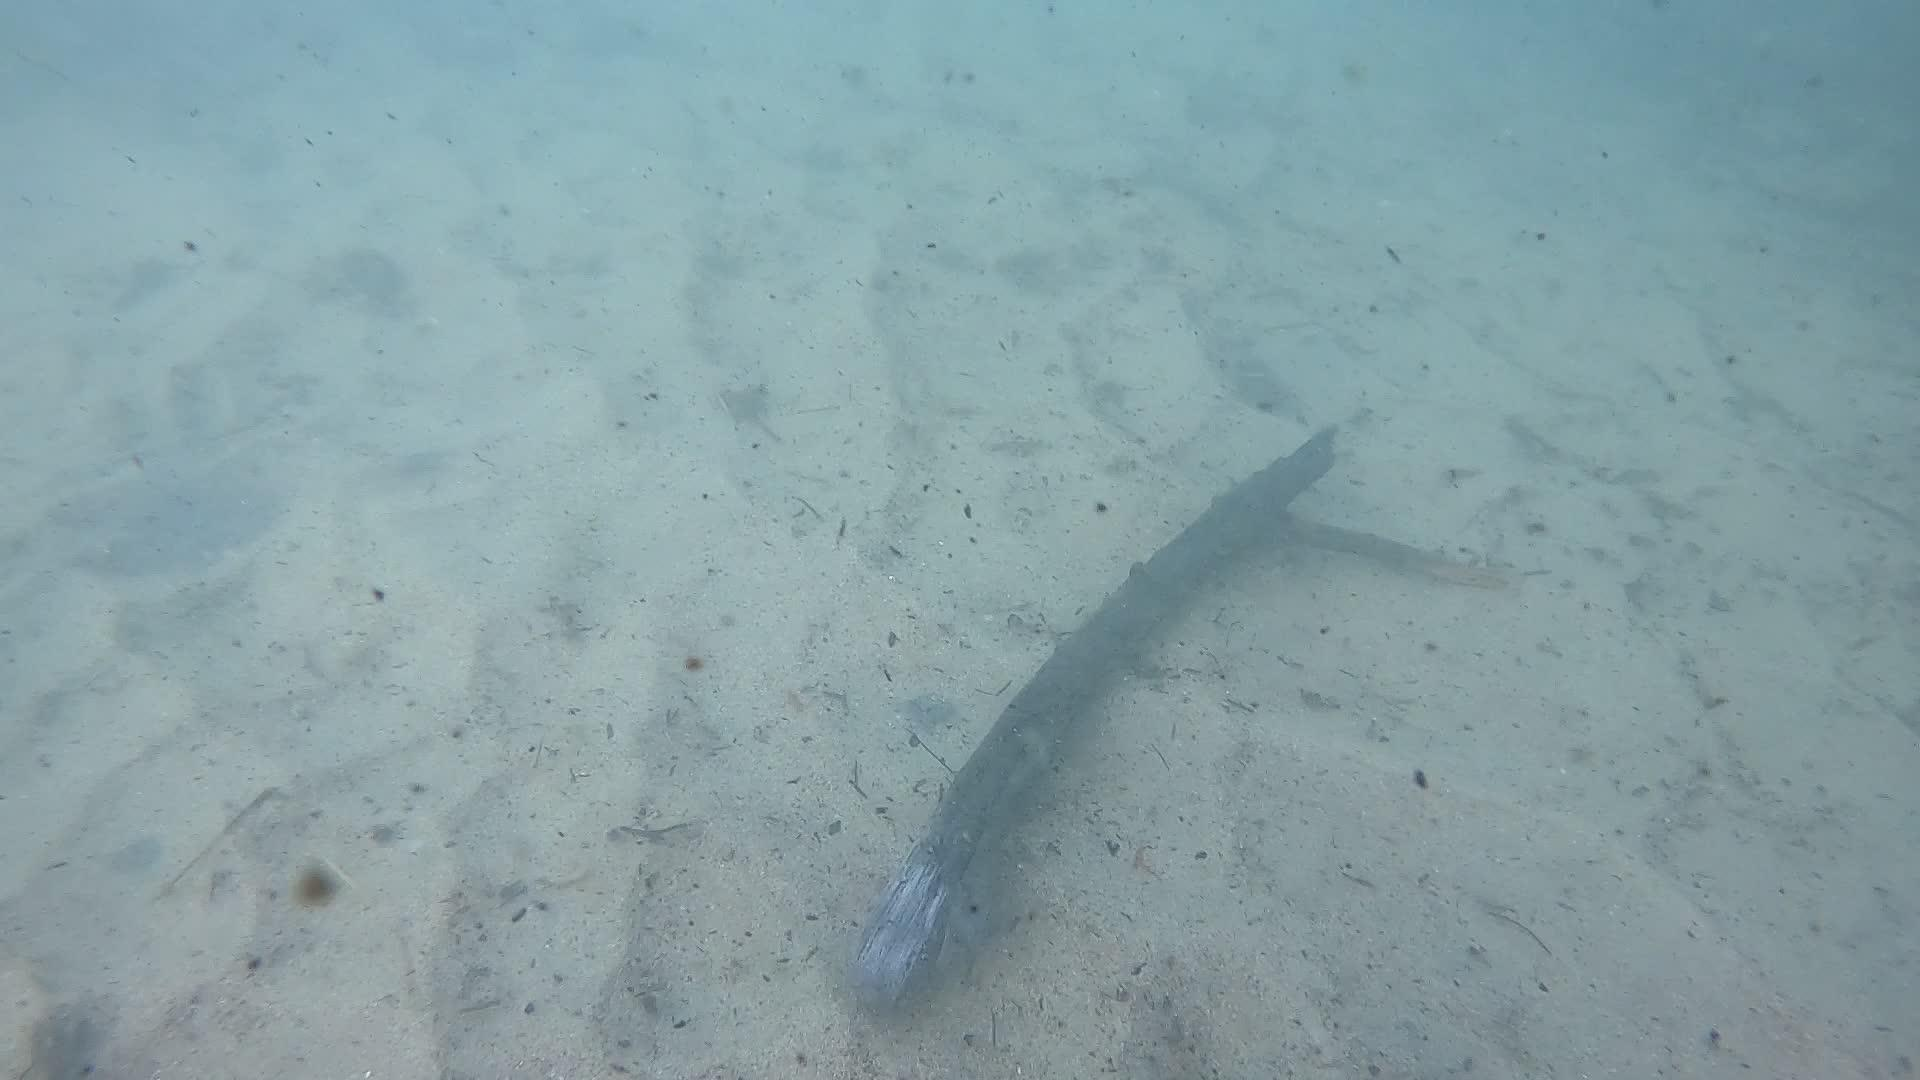wood: (853, 425, 1524, 993)
